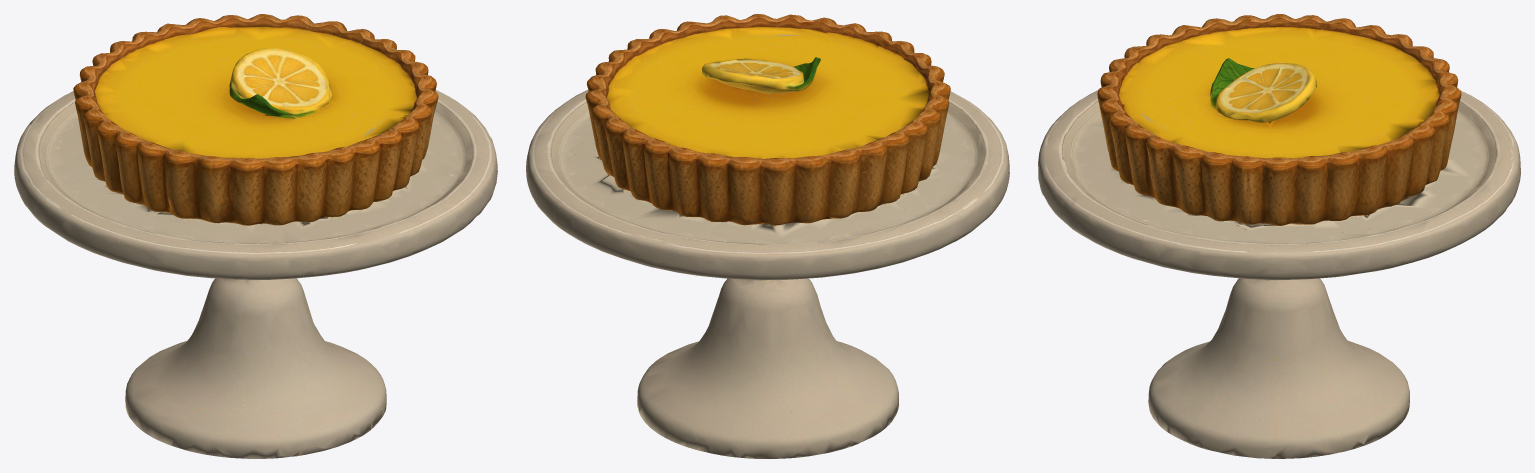
Rendered from tart.glb.
3 renders of one model, left to right at view 1: azimuth 30°, elevation 25°; view 2: azimuth 150°, elevation 25°; view 3: azimuth 270°, elevation 25°, orthographic.
Parts seen in each view (by area): view 1: mesh_node; view 2: mesh_node; view 3: mesh_node.
Boxes of the visible parts, x1,y1,x2,y2 form: mesh_node: (14,14,497,458); mesh_node: (526,14,1009,458); mesh_node: (1038,14,1520,458).
Size of the model in its own units: 1.9 by 1.47 by 1.9.
Materials: 1 (1 with a texture image).
